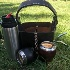guampa: (13, 44, 37, 66), (38, 40, 60, 63)
